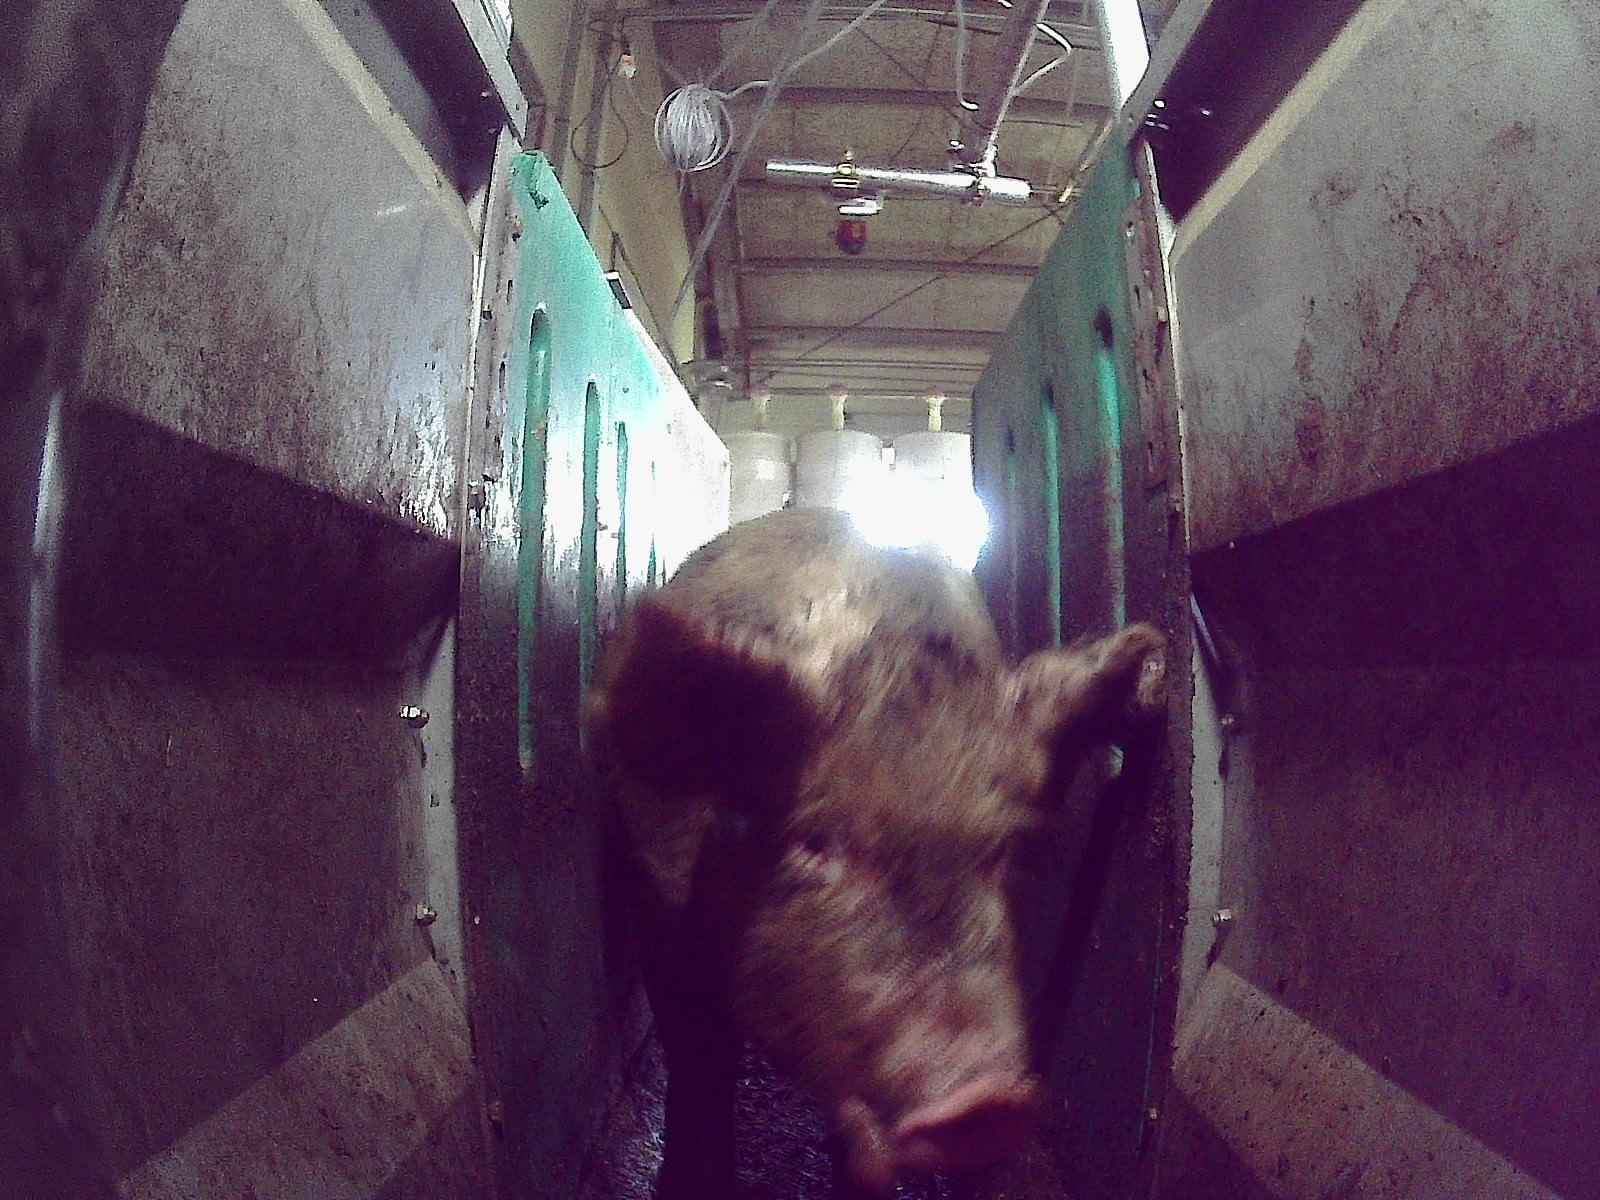Face: (701, 651, 1044, 1187)
